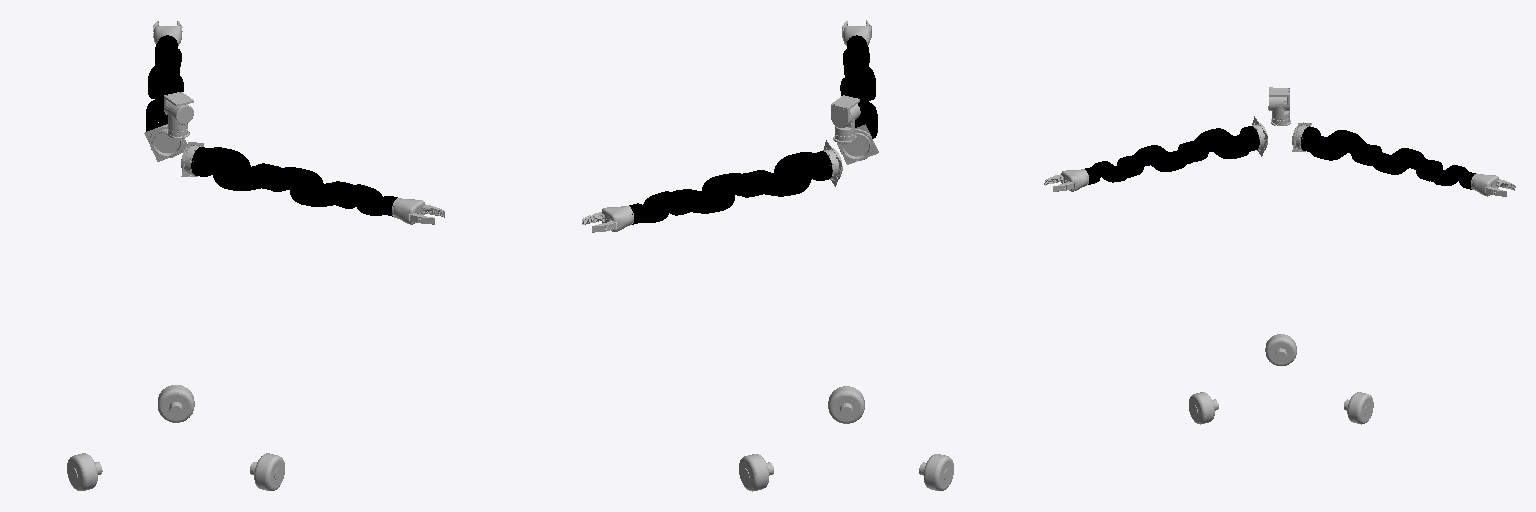
--- What the picture shows (computed from the rendered views, not written in the file) ---
3 views of the same robot in one strip: view 1: azimuth 30°, elevation 25°; view 2: azimuth 150°, elevation 25°; view 3: azimuth 270°, elevation 25° (orthographic).
Robot: wust_robot — 35 links, 34 joints (20 revolute, 3 continuous, 11 fixed); root link base_dummy; default pose: every joint at zero.
Links seen in each view (by area): view 1: R_Link2, R_Link4, wheel_Link1, wheel_Link2, wheel_Link3, R_Link1, L_Link0, R_Link3, R_Link6, L_Link4, H_Link1, R_Link5 (+1 smaller); view 2: L_Link2, L_Link4, wheel_Link3, L_Link1, wheel_Link1, wheel_Link2, R_Link0, L_Link3, R_Link4, L_Link6, H_Link2, L_Link5 (+2 smaller); view 3: L_Link1, R_Link1, L_Link3, R_Link3, wheel_Link2, wheel_Link1, wheel_Link3, L_Link5, R_Link5, R_Link2, L_Link2.
Boxes of the visible links, x1=… form: R_Link2: x1=212, y1=158, x2=278, y2=190; R_Link4: x1=290, y1=178, x2=349, y2=206; wheel_Link1: x1=158, y1=385, x2=194, y2=422; wheel_Link2: x1=67, y1=453, x2=102, y2=490; wheel_Link3: x1=250, y1=453, x2=284, y2=490; R_Link1: x1=191, y1=147, x2=250, y2=176; L_Link0: x1=144, y1=124, x2=187, y2=161; R_Link3: x1=269, y1=167, x2=323, y2=191; R_Link6: x1=356, y1=193, x2=397, y2=216; L_Link4: x1=148, y1=57, x2=179, y2=98; H_Link1: x1=167, y1=103, x2=193, y2=131; R_Link5: x1=340, y1=184, x2=382, y2=208; L_Link2: x1=749, y1=163, x2=811, y2=196; L_Link4: x1=678, y1=184, x2=734, y2=214; wheel_Link3: x1=828, y1=386, x2=864, y2=423; L_Link1: x1=774, y1=151, x2=832, y2=180; wheel_Link1: x1=739, y1=454, x2=773, y2=491; wheel_Link2: x1=919, y1=454, x2=953, y2=490; R_Link0: x1=837, y1=124, x2=878, y2=164; L_Link3: x1=702, y1=173, x2=755, y2=197; R_Link4: x1=844, y1=58, x2=875, y2=100; L_Link6: x1=629, y1=201, x2=669, y2=224; H_Link2: x1=831, y1=95, x2=859, y2=127; L_Link5: x1=643, y1=190, x2=685, y2=215; L_Link1: x1=1301, y1=126, x2=1349, y2=160; R_Link1: x1=1210, y1=126, x2=1259, y2=158; L_Link3: x1=1367, y1=145, x2=1411, y2=174; R_Link3: x1=1149, y1=143, x2=1193, y2=171; wheel_Link2: x1=1265, y1=334, x2=1296, y2=365; wheel_Link1: x1=1344, y1=392, x2=1373, y2=424; wheel_Link3: x1=1189, y1=392, x2=1218, y2=424; L_Link5: x1=1427, y1=160, x2=1460, y2=185; R_Link5: x1=1099, y1=157, x2=1132, y2=182; R_Link2: x1=1186, y1=128, x2=1225, y2=162; L_Link2: x1=1335, y1=130, x2=1371, y2=165.
Bounding box of the posed robot: 0.9284 × 1.88 × 1.38 m (x, y, z).
26 mesh visuals loaded from 28 distinct referenced files (26 binary STL); not drawn: 2 (reference not matched to a file when rendering).

URDF robot description (wust_robot):
<robot name="wust_robot" xmlns:xacro="http://www.ros.org/wiki/xacro">

  <!-- ros_control plugin -->
  <gazebo>
    <plugin name="gazebo_ros_control" filename="libgazebo_ros_control.so">
      <robotNamespace>/wust_robot</robotNamespace>
      <robotSimType>gazebo_ros_control/DefaultRobotHWSim</robotSimType>
      <legacyModeNS>true</legacyModeNS>
    </plugin>
  </gazebo>
  <!-- vision -->
 <link 
    name="base_dummy">
  </link>
  <joint
    name="dummy_fixed"
    type="fixed">
    <origin
      xyz="0 0 0"
      rpy="0 0 0" />
    <parent
      link="base_dummy" />
    <child
      link="base_link" />
    <axis
      xyz="0 0 0" />
  </joint>
  <link
    name="base_link">
    <inertial>
      <origin
        xyz="-0.282456057125086 -0.00267891878159933 0.622280941993128"
        rpy="0 0 0" />
      <mass
        value="14.4253188556047" />
      <inertia
        ixx="3.4562626189094"
        ixy="0.000474831227952002"
        ixz="-0.0182515118714143"
        iyy="3.45013717269394"
        iyz="0.0116686710973834"
        izz="0.488384434703737" />
    </inertial>
    <visual>
      <origin
        xyz="0 0 0"
        rpy="0 0 0" />
      <geometry>
        <mesh
          filename="package://wust_robot_description/meshes/base_link.STL" />
      </geometry>
      <material
        name="">
        <color
          rgba="0.752941176470588 0.752941176470588 0.752941176470588 1" />
      </material>
    </visual>
    <collision>
      <origin
        xyz="0 0 0"
        rpy="0 0 0" />
      <geometry>
        <mesh
          filename="package://wust_robot_description/meshes/base_link.STL" />
      </geometry>
    </collision>
  </link>
  <link 
    name="L_shoulder_Link">
  </link>
  <joint
    name="L_shoulder_joint"
    type="fixed">
    <origin
      xyz="-0.195 0.219 1.152"
      rpy="0 0 0" />
    <parent
      link="base_link" />
    <child
      link="L_shoulder_Link" />
    <axis
      xyz="0 0 0" />
  </joint>
  <link 
    name="R_shoulder_Link">
  </link>
  <joint
    name="R_shoulder_joint"
    type="fixed">
    <origin
      xyz="-0.195 -0.227 1.158"
      rpy="0 0 0" />
    <parent
      link="base_link" />
    <child
      link="R_shoulder_Link" />
    <axis
      xyz="0 0 0" />
  </joint>
  <link
    name="wheel_Link1">
    <inertial>
      <origin
        xyz="3.98208446772408E-09 -1.06505154695569E-09 -0.00320196573480336"
        rpy="0 0 0" />
      <mass
        value="0.784918417319531" />
      <inertia
        ixx="0.00103508205491259"
        ixy="-1.20506527899157E-09"
        ixz="-1.40770135890859E-11"
        iyy="0.00103511219307498"
        iyz="-1.29208313491843E-12"
        izz="0.00137479471522695" />
    </inertial>
    <visual>
      <origin
        xyz="0 0 0"
        rpy="0 0 0" />
      <geometry>
        <mesh
          filename="package://wust_robot_description/meshes/wheel_Link1.STL" />
      </geometry>
      <material
        name="">
        <color
          rgba="0.752941176470588 0.752941176470588 0.752941176470588 1" />
      </material>
    </visual>
    <collision>
      <origin
        xyz="0 0 0"
        rpy="0 0 0" />
      <geometry>
        <mesh
          filename="package://wust_robot_description/meshes/wheel_Link1.STL" />
      </geometry>
    </collision>
  </link>
  <joint
    name="wheel_joint1"
    type="continuous">
    <origin
      xyz="-0.103621086217595 0.316965297785102 0.0402"
      rpy="1.5707963267949 0 2.61799387799148" />
    <parent
      link="base_link" />
    <child
      link="wheel_Link1" />
    <axis
      xyz="0 0 1" />
  </joint>
  <link
    name="wheel_Link2">
    <inertial>
      <origin
        xyz="1.02918445724924E-12 -1.06505145675007E-09 -0.00320198442894559"
        rpy="0 0 0" />
      <mass
        value="0.784918417681748" />
      <inertia
        ixx="0.00103508209438553"
        ixy="-2.85682060113823E-09"
        ixz="1.1811141455231E-13"
        iyy="0.00103511223630421"
        iyz="-6.67148519845314E-12"
        izz="0.00137479472059587" />
    </inertial>
    <visual>
      <origin
        xyz="0 0 0"
        rpy="0 0 0" />
      <geometry>
        <mesh
          filename="package://wust_robot_description/meshes/wheel_Link2.STL" />
      </geometry>
      <material
        name="">
        <color
          rgba="0.752941176470588 0.752941176470588 0.752941176470588 1" />
      </material>
    </visual>
    <collision>
      <origin
        xyz="0 0 0"
        rpy="0 0 0" />
      <geometry>
        <mesh
          filename="package://wust_robot_description/meshes/wheel_Link2.STL" />
      </geometry>
    </collision>
  </link>
  <joint
    name="wheel_joint2"
    type="continuous">
    <origin
      xyz="-0.6526210862176 0 0.0402"
      rpy="1.5707963267949 7.49830360911069E-33 -1.57079632679489" />
    <parent
      link="base_link" />
    <child
      link="wheel_Link2" />
    <axis
      xyz="0 0 1" />
  </joint>
  <link
    name="wheel_Link3">
    <inertial>
      <origin
        xyz="-2.83100107245637E-09 -1.06505148450564E-09 -0.0032019617538914"
        rpy="0 0 0" />
      <mass
        value="0.784918417240751" />
      <inertia
        ixx="0.00103508206033524"
        ixy="-8.54796798950166E-10"
        ixz="9.34219235716564E-12"
        iyy="0.00103511220112508"
        iyz="-1.46548094469136E-13"
        izz="0.00137479471751099" />
    </inertial>
    <visual>
      <origin
        xyz="0 0 0"
        rpy="0 0 0" />
      <geometry>
        <mesh
          filename="package://wust_robot_description/meshes/wheel_Link3.STL" />
      </geometry>
      <material
        name="">
        <color
          rgba="0.752941176470588 0.752941176470588 0.752941176470588 1" />
      </material>
    </visual>
    <collision>
      <origin
        xyz="0 0 0"
        rpy="0 0 0" />
      <geometry>
        <mesh
          filename="package://wust_robot_description/meshes/wheel_Link3.STL" />
      </geometry>
    </collision>
  </link>
  <joint
    name="wheel_joint3"
    type="continuous">
    <origin
      xyz="-0.103621086217593 -0.316965297785103 0.0402"
      rpy="1.5707963267949 0 0.523598775598322" />
    <parent
      link="base_link" />
    <child
      link="wheel_Link3" />
    <axis
      xyz="0 0 -1" />
  </joint>
  <link
    name="L_Link0">
    <inertial>
      <origin
        xyz="0.705266187723226 -0.0627195193252027 -0.0503860551663762"
        rpy="0 0 0" />
      <mass
        value="44.8536262663904" />
      <inertia
        ixx="3.32145714603812"
        ixy="-0.742413466725483"
        ixz="0.341583244971493"
        iyy="11.1763395351522"
        iyz="-0.35531832839436"
        izz="10.7760237557026" />
    </inertial>
    <visual>
      <origin
        xyz="0 0 0"
        rpy="0 0 0" />
      <geometry>
        <mesh
          filename="package://wust_robot_description/meshes/L_Link0.STL" />
      </geometry>
      <material
        name="">
        <color
          rgba="0.752941176470588 0.752941176470588 0.752941176470588 1" />
      </material>
    </visual>
    <collision>
      <origin
        xyz="0 0 0"
        rpy="0 0 0" />
      <geometry>
        <mesh
          filename="package://wust_robot_description/meshes/L_Link0.STL" />
      </geometry>
    </collision>
  </link>
  <joint
    name="L_fixed"
    type="fixed">
    <origin
      xyz="-0.277216673276884 0.076446811665885 1.15429750765682"
      rpy="3.14159265358934 1.56054089882637 -2.09612569168172" />
    <parent
      link="base_link" />
    <child
      link="L_Link0" />
    <axis
      xyz="0 0 0" />
  </joint>
  <link
    name="L_Link1">
    <inertial>
      <origin
        xyz="-4.01597777859308E-05 -0.015653004325108 0.0601130386374143"
        rpy="0 0 0" />
      <mass
        value="0.225999459202375" />
      <inertia
        ixx="0.000855101108306438"
        ixy="1.28543240450215E-07"
        ixz="6.24868513140796E-07"
        iyy="0.000896245950407909"
        iyz="6.58582596095603E-05"
        izz="0.000416139417054559" />
    </inertial>
    <visual>
      <origin
        xyz="0 0 0"
        rpy="0 0 0" />
      <geometry>
        <mesh
          filename="package://wust_robot_description/meshes/L_Link1.STL" />
      </geometry>
      <material
        name="">
        <color
          rgba="0 0 0 1" />
      </material>
    </visual>
    <collision>
      <origin
        xyz="0 0 0"
        rpy="0 0 0" />
      <geometry>
        <mesh
          filename="package://wust_robot_description/meshes/L_Link1.STL" />
      </geometry>
    </collision>
  </link>
  <joint
    name="L_joint1"
    type="revolute">
    <origin
      xyz="0 0 0.0575"
      rpy="-3.6214E-14 -1.1852E-14 -8.874E-06" />
    <parent
      link="L_Link0" />
    <child
      link="L_Link1" />
    <axis
      xyz="0 0 1" />
    <limit
      lower="-3.05"
      upper="3.05"
      effort="90"
      velocity="1.31" />
  </joint>
  <link
    name="L_Link2">
    <inertial>
      <origin
        xyz="0.000857159054628465 -0.0688556150992958 -0.0219475431582306"
        rpy="0 0 0" />
      <mass
        value="0.211155173164178" />
      <inertia
        ixx="0.00099680616846942"
        ixy="7.35505061258559E-06"
        ixz="3.30420389247683E-06"
        iyy="0.000405576840374361"
        iyz="-0.000263492222121101"
        izz="0.000942075280953054" />
    </inertial>
    <visual>
      <origin
        xyz="0 0 0.052"
        rpy="0 0 0" />
      <geometry>
        <mesh
          filename="package://wust_robot_description/meshes/L_Link2.STL" />
      </geometry>
      <material
        name="">
        <color
          rgba="0 0 0 1" />
      </material>
    </visual>
    <collision>
      <origin
        xyz="0 0 0.052"
        rpy="0 0 0" />
      <geometry>
        <mesh
          filename="package://wust_robot_description/meshes/L_Link2.STL" />
      </geometry>
    </collision>
  </link>
  <joint
    name="L_joint2"
    type="revolute">
    <origin
      xyz="0.0007 0.0 0.107"
      rpy="-1.5708 -0.0 -0.0" />
    <parent
      link="L_Link1" />
    <child
      link="L_Link2" />
    <axis
      xyz="0 0 1" />
    <limit
      lower="-2.09"
      upper="2.09"
      effort="90"
      velocity="1.31" />
  </joint>
  <link
    name="L_Link3">
    <inertial>
      <origin
        xyz="-0.000502019625280736 -0.0161731705290906 0.0585188339670352"
        rpy="0 0 0" />
      <mass
        value="0.17490126281718" />
      <inertia
        ixx="0.000566836297288879"
        ixy="1.50176831737645E-07"
        ixz="3.02203024327442E-07"
        iyy="0.000579069255779677"
        iyz="3.49864551490562E-05"
        izz="0.000240420030304234" />
    </inertial>
    <visual>
      <origin
        xyz="0 0 0"
        rpy="0 0 0" />
      <geometry>
        <mesh
          filename="package://wust_robot_description/meshes/L_Link3.STL" />
      </geometry>
      <material
        name="">
        <color
          rgba="0 0 0 1" />
      </material>
    </visual>
    <collision>
      <origin
        xyz="0 0 0"
        rpy="0 0 0" />
      <geometry>
        <mesh
          filename="package://wust_robot_description/meshes/L_Link3.STL" />
      </geometry>
    </collision>
  </link>
  <joint
    name="L_joint3"
    type="revolute">
    <origin
      xyz="0.00 -0.19068 0 "
      rpy="1.5708 -0.00 0.0" />
    <parent
      link="L_Link2" />
    <child
      link="L_Link3" />
    <axis
      xyz="0 0 1" />
    <limit
      lower="-3.05"
      upper="3.05"
      effort="67"
      velocity="1.31" />
  </joint>
  <link
    name="L_Link4">
    <inertial>
      <origin
        xyz="0.000816124678452601 -0.0673789710997609 -0.0227669323131372"
        rpy="0 0 0" />
      <mass
        value="0.139141420083307" />
      <inertia
        ixx="0.00056729628586642"
        ixy="4.51473982393015E-06"
        ixz="1.91083305732679E-06"
        iyy="0.000225919086974947"
        iyz="-0.000151217366445457"
        izz="0.000540296323987622" />
    </inertial>
    <visual>
      <origin
        xyz="0 0 0.0496"
        rpy="0 0 0" />
      <geometry>
        <mesh
          filename="package://wust_robot_description/meshes/L_Link4.STL" />
      </geometry>
      <material
        name="">
        <color
          rgba="0 0 0 1" />
      </material>
    </visual>
    <collision>
      <origin
        xyz="0 0 0.0496"
        rpy="0 0 0" />
      <geometry>
        <mesh
          filename="package://wust_robot_description/meshes/L_Link4.STL" />
      </geometry>
    </collision>
  </link>
  <joint
    name="L_joint4"
    type="revolute">
    <origin
      xyz="-0.000 0.0 0.1013"
      rpy="-1.5708 -0.0 -0.0" />
    <parent
      link="L_Link3" />
    <child
      link="L_Link4" />
    <axis
      xyz="0 0 1" />
    <limit
      lower="-2.09"
      upper="2.09"
      effort="67"
      velocity="1.31" />
  </joint>
  <link
    name="L_Link5">
    <inertial>
      <origin
        xyz="-4.29302225295469E-05 -0.0122054741831609 0.0309080414213873"
        rpy="0 0 0" />
      <mass
        value="0.0974186108051673" />
      <inertia
        ixx="0.000193993763249076"
        ixy="-1.08151386702443E-08"
        ixz="1.12865581638743E-07"
        iyy="0.000192392251466149"
        iyz="2.59299754635995E-05"
        izz="0.00011605204613654" />
    </inertial>
    <visual>
      <origin
        xyz="0 0 0"
        rpy="0 0 0" />
      <geometry>
        <mesh
          filename="package://wust_robot_description/meshes/L_Link5.STL" />
      </geometry>
      <material
        name="">
        <color
          rgba="0 0 0 1" />
      </material>
    </visual>
    <collision>
      <origin
        xyz="0 0 0"
        rpy="0 0 0" />
      <geometry>
        <mesh
          filename="package://wust_robot_description/meshes/L_Link5.STL" />
      </geometry>
    </collision>
  </link>
  <joint
    name="L_joint5"
    type="revolute">
    <origin
      xyz="0.00 -0.17419 -0.0"
      rpy="1.5708 -0.00 0.0" />
    <parent
      link="L_Link4" />
    <child
      link="L_Link5" />
    <axis
      xyz="0 0 1" />
    <limit
      lower="-3.05"
      upper="3.05"
      effort="67"
      velocity="1.57" />
  </joint>
  <link
    name="L_Link6">
    <inertial>
      <origin
        xyz="0.000578002589833648 -0.0463011867222332 -0.0205916885454552"
        rpy="0 0 0" />
      <mass
        value="0.0709945582242612" />
      <inertia
        ixx="0.000150339550887913"
        ixy="9.87375759106794E-07"
        ixz="4.30166297877036E-07"
        iyy="6.97108294544225E-05"
        iyz="-3.5343957204107E-05"
        izz="0.000145966265729034" />
    </inertial>
    <visual>
      <origin
        xyz="0 0 0.035"
        rpy="0 0 0" />
      <geometry>
        <mesh
          filename="package://wust_robot_description/meshes/L_Link6.STL" />
      </geometry>
      <material
        name="">
        <color
          rgba="0 0 0 1" />
      </material>
    </visual>
    <collision>
      <origin
        xyz="0 0 0.035"
        rpy="0 0 0" />
      <geometry>
        <mesh
          filename="package://wust_robot_description/meshes/L_Link6.STL" />
      </geometry>
    </collision>
  </link>
  <joint
    name="L_joint6"
    type="revolute">
    <origin
      xyz="0.000 0.0 0.0678"
      rpy="-1.5708 -0.0 -0.00" />
    <parent
      link="L_Link5" />
    <child
      link="L_Link6" />
    <axis
      xyz="0 0 1" />
    <limit
      lower="-2.09"
      upper="2.09"
      effort="67"
      velocity="1.57" />
  </joint>
  <link
    name="L_Link7">
    <inertial>
      <origin
        xyz="4.60523932026558E-05 8.96532549643503E-07 0.0214613080243776"
        rpy="0 0 0" />
      <mass
        value="0.069591475741743" />
      <inertia
        ixx="0.000100578251230889"
        ixy="-5.19958958347684E-08"
        ixz="-5.45711696598764E-08"
        iyy="8.85989894975445E-05"
        iyz="6.15630197980581E-09"
        izz="8.88086576481483E-05" />
    </inertial>
    <visual>
      <origin
        xyz="0 0 0"
        rpy="0 0 0" />
      <geometry>
        <mesh
          filename="package://wust_robot_description/meshes/L_Link7.STL" />
      </geometry>
      <material
        name="">
        <color
          rgba="0.752941176470588 0.752941176470588 0.752941176470588 1" />
      </material>
    </visual>
    <collision>
      <origin
        xyz="0 0 0"
        rpy="0 0 0" />
      <geometry>
        <mesh
          filename="package://wust_robot_description/meshes/L_Link7.STL" />
      </geometry>
    </collision>
  </link>
  <joint
    name="L_joint7"
    type="revolute">
    <origin
      xyz="0.00 -0.12909 -0.0"
      rpy="1.5708 -0.00 0.0" />
    <parent
      link="L_Link6" />
    <child
      link="L_Link7" />
    <axis
      xyz="0 0 1" />
    <limit
      lower="-3.05"
      upper="3.05"
      effort="33"
      velocity="1.57" />
  </joint>
  <link
    name="L_ee" />
  <joint
    name="L_end_fixed"
    type="fixed">
    <origin
      xyz="0 0 0.105"
      rpy="0 0 0" />
    <parent
      link="L_Link7" />
    <child
      link="L_ee" />
    <axis
      xyz="0 0 0" />
  </joint>
  <link
    name="L_left_finger">
    <inertial>
      <origin
        xyz="0.0320300911336966 0.0191580149745619 1.65254374870916E-05"
        rpy="0 0 0" />
      <mass
        value="0.0222031203695293" />
      <inertia
        ixx="2.94895437947066E-06"
        ixy="-2.74026245995243E-06"
        ixz="3.48998944902299E-09"
        iyy="1.31997477985414E-05"
        iyz="-1.523937902794E-09"
        izz="1.31922323060758E-05" />
    </inertial>
    <visual>
      <origin
        xyz="0 0 0"
        rpy="0 0 0" />
      <geometry>
        <mesh
          filename="package://wust_robot_description/meshes/L_left_finger.STL" />
      </geometry>
      <material
        name="">
        <color
          rgba="0.752941176470588 0.752941176470588 0.752941176470588 1" />
      </material>
    </visual>
    <collision>
      <origin
        xyz="0 0 0"
        rpy="0 0 0" />
      <geometry>
        <mesh
          filename="package://wust_robot_description/meshes/L_left_finger.STL" />
      </geometry>
    </collision>
  </link>
  <joint
    name="L_left_joint"
    type="revolute">
    <origin
      xyz="0.00010863 0.028 0.0584"
      rpy="1.5708 -1.3107 -1.5747" />
    <parent
      link="L_Link7" />
    <child
      link="L_left_finger" />
    <axis
      xyz="0 0 1" />
    <limit
      lower="-0.35"
      upper="0.35"
      effort="0"
      velocity="0" />
  </joint>
  <link
    name="L_right_finger">
    <inertial>
      <origin
        xyz="0.0374350483372549 -0.000661225509474506 -1.65200352733041E-05"
        rpy="0 0 0" />
      <mass
        value="0.0222031598698606" />
      <inertia
        ixx="2.96928300709427E-06"
        ixy="-2.85846959892981E-06"
        ixz="-2.56668795513893E-09"
        iyy="1.31704010800968E-05"
        iyz="-2.8970724658086E-09"
        izz="1.31832096813533E-05" />
    </inertial>
    <visual>
      <origin
        xyz="0 0 0"
        rpy="0 0 0" />
      <geometry>
        <mesh
          filename="package://wust_robot_description/meshes/L_right_finger.STL" />
      </geometry>
      <material
        name="">
        <color
          rgba="0.752941176470588 0.752941176470588 0.752941176470588 1" />
      </material>
    </visual>
    <collision>
      <origin
        xyz="0 0 0"
        rpy="0 0 0" />
      <geometry>
        <mesh
          filename="package://wust_robot_description/meshes/L_right_finger.STL" />
      </geometry>
    </collision>
  </link>
  <joint
    name="L_right_joint"
    type="revolute">
    <origin
      xyz="-0.00010863 -0.028 0.0584"
      rpy="1.5708 -1.3107 -1.5747" />
    <parent
      link="L_Link7" />
    <child
      link="L_right_finger" />
    <axis
      xyz="0 0 1" />
    <limit
      lower="-0.35"
      upper="0.35"
      effort="0"
      velocity="0" />
  </joint>
  <link
    name="R_Link0">
    <inertial>
      <origin
        xyz="-0.705949828103567 -0.0617435709172465 -0.0519210672148267"
        rpy="0 0 0" />
      <mass
        value="44.8536262663904" />
      <inertia
        ixx="3.33720272867562"
        ixy="0.737896863784547"
        ixz="-0.500242330782589"
        iyy="11.1713307608221"
        iyz="-0.344327247077981"
        izz="10.7652869473953" />
    </inertial>
    <visual>
      <origin
        xyz="0 0 0"
        rpy="0 0 0" />
      <geometry>
        <mesh
          filename="package://wust_robot_description/meshes/R_Link0.STL" />
      </geometry>
      <material
        name="">
        <color
          rgba="0.752941176470588 0.752941176470588 0.752941176470588 1" />
      </material>
    </visual>
    <collision>
      <origin
        xyz="0 0 0"
        rpy="0 0 0" />
      <geometry>
        <mesh
          filename="package://wust_robot_description/meshes/R_Link0.STL" />
      </geometry>
    </collision>
  </link>
  <joint
    name="R_fixed"
    type="fixed">
    <origin
      xyz="-0.282475067184404 -0.0754489025211679 1.1559501936252"
      rpy="0 -1.56230906164837 2.09271386565402" />
    <parent
      link="base_link" />
    <child
      link="R_Link0" />
    <axis
      xyz="0 0 0" />
  </joint>
  <link
    name="R_Link1">
    <inertial>
      <origin
        xyz="-8.80730212726721E-05 -0.0156519826446752 0.0601157869098909"
        rpy="0 0 0" />
      <mass
        value="0.225988503121511" />
      <inertia
        ixx="0.000855056493906698"
        ixy="2.56076634162957E-07"
        ixz="8.29560067350113E-07"
        iyy="0.000896207358258187"
        iyz="6.58679338631613E-05"
        izz="0.000416131483281957" />
    </inertial>
    <visual>
      <origin
        xyz="0 0 0"
        rpy="0 0 0" />
      <geometry>
        <mesh
          filename="package://wust_robot_description/meshes/R_Link1.STL" />
      </geometry>
      <material
        name="">
        <color
          rgba="0 0 0 1" />
      </material>
    </visual>
    <collision>
      <origin
        xyz="0 0 0"
        rpy="0 0 0" />
      <geometry>
        <mesh
          filename="package://wust_robot_description/meshes/R_Link1.STL" />
      </geometry>
    </collision>
  </link>
  <joint
    name="R_joint1"
    type="revolute">
    <origin
      xyz="0 0 0.0675"
      rpy="5.0515E-14 7.1106E-15 4.2748E-16" />
    <parent
      link="R_Link0" />
    <child
      link="R_Link1" />
    <axis
      xyz="0 0 1" />
    <limit
      lower="-3.05"
      upper="3.05"
      effort="90"
      velocity="1.57" />
  </joint>
  <link
    name="R_Link2">
    <inertial>
      <origin
        xyz="0.000855446580232622 -0.0688556657921777 -0.0219476027776705"
        rpy="0 0 0" />
      <mass
        value="0.211155390534304" />
      <inertia
        ixx="0.000996807167364456"
        ixy="7.34046811397431E-06"
        ixz="3.29819398216218E-06"
        iyy="0.00040557671982896"
        iyz="-0.000263492282504201"
        izz="0.000942075587938676" />
    </inertial>
    <visual>
      <origin
        xyz="0 0 0.052"
        rpy="0 0 0" />
      <geometry>
        <mesh
          filename="package://wust_robot_description/meshes/R_Link2.STL" />
      </geometry>
      <material
        name="">
        <color
          rgba="0 0 0 1" />
      </material>
    </visual>
    <collision>
      <origin
        xyz="0 0 0.052"
        rpy="0 0 0" />
      <geometry>
        <mesh
          filename="package://wust_robot_description/meshes/R_Link2.STL" />
      </geometry>
    </collision>
  </link>
  <joint
    name="R_joint2"
    type="revolute">
    <origin
      xyz="0.00036098 0 0.107"
      rpy="-1.5708 -0.0 -0.00" />
    <parent
      link="R_Link1" />
    <child
      link="R_Link2" />
    <axis
      xyz="0 0 1" />
    <limit
      lower="-2.09"
      upper="2.09"
      effort="90"
      velocity="1.57" />
  </joint>
  <link
    name="R_Link3">
    <inertial>
      <origin
        xyz="-0.000124308636626935 -0.0161728550503237 0.0585188481364759"
        rpy="0 0 0" />
      <mass
        value="0.174901365038314" />
      <inertia
        ixx="0.000566837830675693"
        ixy="1.87641076312855E-07"
        ixz="4.09346511538344E-07"
        iyy="0.00057906863650209"
        iyz="3.49852208079504E-05"
        izz="0.000240420085764592" />
    </inertial>
    <visual>
      <origin
        xyz="0 0 0"
        rpy="0 0 0" />
      <geometry>
        <mesh
          filename="package://wust_robot_description/meshes/R_Link3.STL" />
      </geometry>
      <material
        name="">
        <color
          rgba="0 0 0 1" />
      </material>
    </visual>
    <collision>
      <origin
        xyz="0 0 0"
        rpy="0 0 0" />
      <geometry>
        <mesh
          filename="package://wust_robot_description/meshes/R_Link3.STL" />
      </geometry>
    </collision>
  </link>
  <joint
    name="R_joint3"
    type="revolute">
    <origin
      xyz="0.000 -0.19069 -0.00"
      rpy="1.5708 -0.000 0.00" />
    <parent
      link="R_Link2" />
    <child
      link="R_Link3" />
    <axis
      xyz="0 0 1" />
    <limit
      lower="-3.05"
      upper="3.05"
      effort="67"
      velocity="1.31" />
  </joint>
  <link
    name="R_Link4">
    <inertial>
      <origin
        xyz="0.000814622172446322 -0.0673803573274671 -0.0227673778995151"
        rpy="0 0 0" />
      <mass
        value="0.139139841811024" />
      <inertia
        ixx="0.000567281709376824"
        ixy="4.50372009169932E-06"
        ixz="1.90649602099204E-06"
        iyy="0.000225916537752781"
        iyz="-0.000151211158915554"
        izz="0.000540282597292521" />
    </inertial>
    <visual>
      <origin
        xyz="0 0 0.0497"
        rpy="0 0 0" />
      <geometry>
        <mesh
          filename="package://wust_robot_description/meshes/R_Link4.STL" />
      </geometry>
      <material
        name="">
        <color
          rgba="0 0 0 1" />
      </material>
    </visual>
    <collision>
      <origin
        xyz="0 0 0.0497"
        rpy="0 0 0" />
      <geometry>
        <mesh
          filename="package://wust_robot_description/meshes/R_Link4.STL" />
      </geometry>
    </collision>
  </link>
  <joint
    name="R_joint4"
    type="revolute">
    <origin
      xyz="0.000 0.0 0.1013"
      rpy="-1.5708 -0.0 -0.00" />
    <parent
      link="R_Link3" />
    <child
      link="R_Link4" />
    <axis
      xyz="0 0 1" />
    <limit
      lower="-2.09"
      upper="2.09"
      effort="67"
      velocity="1.31" />
  </joint>
  <link
    name="R_Link5">
    <inertial>
      <origin
        xyz="-8.04048459572826E-05 -0.0122051729745975 0.0309080270457396"
        rpy="0 0 0" />
      <mass
        value="0.0974186804244123" />
      <inertia
        ixx="0.000193994421900863"
        ixy="-1.48441435535215E-08"
        ixz="1.92065206689152E-07"
        iyy="0.000192391989673925"
        iyz="2.59297669656422E-05"
        izz="0.000116052397783966" />
    </inertial>
    <visual>
      <origin
        xyz="0 0 0"
        rpy="0 0 0" />
      <geometry>
        <mesh
          filename="package://wust_robot_description/meshes/R_Link5.STL" />
      </geometry>
      <material
        name="">
        <color
          rgba="0 0 0 1" />
      </material>
    </visual>
    <collision>
      <origin
        xyz="0 0 0"
        rpy="0 0 0" />
      <geometry>
        <mesh
          filename="package://wust_robot_description/meshes/R_Link5.STL" />
      </geometry>
    </collision>
  </link>
  <joint
    name="R_joint5"
    type="revolute">
    <origin
      xyz="0.0 -0.17419 -0.0"
      rpy="1.5708 -0.00 0.0" />
    <parent
      link="R_Link4" />
    <child
      link="R_Link5" />
    <axis
      xyz="0 0 1" />
    <limit
      lower="-3.05"
      upper="3.05"
      effort="67"
      velocity="1.57" />
  </joint>
  <link
    name="R_Link6">
    <inertial>
      <origin
        xyz="0.00057688303394654 -0.0463012841468418 -0.0205917105833053"
        rpy="0 0 0" />
      <mass
        value="0.0709944248375274" />
      <inertia
        ixx="0.000150339079631084"
        ixy="9.85293191132637E-07"
        ixz="4.29279485125423E-07"
        iyy="6.97107575080967E-05"
        iyz="-3.53438629902347E-05"
        izz="0.000145965793514426" />
    </inertial>
    <visual>
      <origin
        xyz="0 0 0.035"
        rpy="0 0 0" />
      <geometry>
        <mesh
          filename="package://wust_robot_description/meshes/R_Link6.STL" />
      </geometry>
      <material
        name="">
        <color
          rgba="0 0 0 1" />
      </material>
    </visual>
    <collision>
      <origin
        xyz="0 0 0.035"
        rpy="0 0 0" />
      <geometry>
        <mesh
          filename="package://wust_robot_description/meshes/R_Link6.STL" />
      </geometry>
    </collision>
  </link>
  <joint
    name="R_joint6"
    type="revolute">
    <origin
      xyz="0.0000 0.00 0.0678"
      rpy="-1.5708 -0.0 -0.00" />
    <parent
      link="R_Link5" />
    <child
      link="R_Link6" />
    <axis
      xyz="0 0 1" />
    <limit
      lower="-2.09"
      upper="2.09"
      effort="67"
      velocity="1.57" />
  </joint>
  <link
    name="R_Link7">
    <inertial>
      <origin
        xyz="4.59025706534E-05 7.68261343486731E-07 0.0214611806756081"
        rpy="0 0 0" />
      <mass
        value="0.0695919740838392" />
      <inertia
        ixx="0.000100577880897543"
        ixy="-8.86467756941057E-08"
        ixz="-5.47756907756264E-08"
        iyy="8.85997556235195E-05"
        iyz="6.35168908512474E-09"
        izz="8.88089262054172E-05" />
    </inertial>
    <visual>
      <origin
        xyz="0 0 0"
        rpy="0 0 0" />
      <geometry>
        <mesh
          filename="package://wust_robot_description/meshes/R_Link7.STL" />
      </geometry>
      <material
        name="">
        <color
          rgba="0.752941176470588 0.752941176470588 0.752941176470588 1" />
      </material>
    </visual>
    <collision>
      <origin
        xyz="0 0 0"
        rpy="0 0 0" />
      <geometry>
        <mesh
          filename="package://wust_robot_description/meshes/R_Link7.STL" />
      </geometry>
    </collision>
  </link>
  <joint
    name="R_joint7"
    type="revolute">
    <origin
      xyz="0.000 -0.12909 -0.00"
      rpy="1.5708 -0.00 0.0" />
    <parent
      link="R_Link6" />
    <child
      link="R_Link7" />
    <axis
      xyz="0 0 1" />
    <limit
      lower="-3.05"
      upper="3.05"
      effort="33"
      velocity="1.57" />
  </joint>
<link
    name="R_ee" />
  <joint
    name="R_end_fixed"
    type="fixed">
    <origin
      xyz="0 0 0.105"
      rpy="0 0 0" />
    <parent
      link="R_Link7" />
    <child
      link="R_ee" />
    <axis
      xyz="0 0 0" />
  </joint>
  <link
    name="R_left_finger">
    <inertial>
      <origin
        xyz="0.0260955520414758 0.0268485052033585 1.65200056947423E-05"
        rpy="0 0 0" />
      <mass
        value="0.0222031599135879" />
      <inertia
        ixx="5.17634121269431E-06"
        ixy="-5.08076804886169E-06"
        ixz="3.86266085033788E-09"
        iyy="1.09633428776348E-05"
        iyz="-2.46941553078193E-10"
        izz="1.31832096779791E-05" />
    </inertial>
    <visual>
      <origin
        xyz="0 0 0"
        rpy="0 0 0" />
      <geometry>
        <mesh
          filename="package://wust_robot_description/meshes/R_left_finger.STL" />
      </geometry>
      <material
        name="">
        <color
          rgba="0.752941176470588 0.752941176470588 0.752941176470588 1" />
      </material>
    </visual>
    <collision>
      <origin
        xyz="0 0 0"
        rpy="0 0 0" />
      <geometry>
        <mesh
          filename="package://wust_robot_description/meshes/R_left_finger.STL" />
      </geometry>
    </collision>
  </link>
  <joint
    name="R_left_joint"
    type="revolute">
    <origin
      xyz="-0.00019437 -0.027999 0.0584"
      rpy="1.5708 -1.0489 1.5639" />
    <parent
      link="R_Link7" />
    <child
      link="R_left_finger" />
    <axis
      xyz="0 0 1" />
    <limit
      lower="-0.35"
      upper="0.35"
      effort="0"
      velocity="0" />
  </joint>
  <link
    name="R_right_finger">
    <inertial>
      <origin
        xyz="0.00900671737878619 -0.0361870762451453 -1.66044539418042E-05"
        rpy="0 0 0" />
      <mass
        value="0.0220974515411977" />
      <inertia
        ixx="1.08405524540199E-05"
        ixy="5.11180404952526E-06"
        ixz="-3.55147285863145E-09"
        iyy="5.2928488567163E-06"
        iyz="1.38783715682453E-09"
        izz="1.31808678174573E-05" />
    </inertial>
    <visual>
      <origin
        xyz="0 0 0"
        rpy="0 0 0" />
      <geometry>
        <mesh
          filename="package://wust_robot_description/meshes/R_right_finger.STL" />
      </geometry>
      <material
        name="">
        <color
          rgba="0.752941176470588 0.752941176470588 0.752941176470588 1" />
      </material>
    </visual>
    <collision>
      <origin
        xyz="0 0 0"
        rpy="0 0 0" />
      <geometry>
        <mesh
          filename="package://wust_robot_description/meshes/R_right_finger.STL" />
      </geometry>
    </collision>
  </link>
  <joint
    name="R_right_joint"
    type="revolute">
    <origin
      xyz="0.00019437 0.027999 0.0584"
      rpy="-1.5708 -0.52188 -1.5777" />
    <parent
      link="R_Link7" />
    <child
      link="R_right_finger" />
    <axis
      xyz="0 0 1" />
    <limit
      lower="-0.35"
      upper="0.35"
      effort="0"
      velocity="0" />
  </joint>
  <link
    name="H_Link0">
    <inertial>
      <origin
        xyz="-3.64915030415247E-08 1.33598927060108E-09 0.00960650891302395"
        rpy="0 0 0" />
      <mass
        value="0.0282931710872259" />
      <inertia
        ixx="1.8670401636216E-05"
        ixy="-4.46182201356798E-09"
        ixz="9.39043454713441E-12"
        iyy="1.60740322277107E-05"
        iyz="-1.42201515331024E-13"
        izz="3.22122742404417E-05" />
    </inertial>
    <visual>
      <origin
        xyz="0 0 0"
        rpy="0 0 0" />
      <geometry>
        <mesh
          filename="package://wust_robot_description/meshes/H_Link0.STL" />
      </geometry>
      <material
        name="">
        <color
          rgba="0.752941176470588 0.752941176470588 0.752941176470588 1" />
      </material>
    </visual>
    <collision>
      <origin
        xyz="0 0 0"
        rpy="0 0 0" />
      <geometry>
        <mesh
          filename="package://wust_robot_description/meshes/H_Link0.STL" />
      </geometry>
    </collision>
  </link>
  <joint
    name="H_fixed"
    type="fixed">
    <origin
      xyz="-0.279853342265354 -0.00124379273591871 1.21711625475335"
      rpy="-0.010818106818609 0.00178669918881043 4.97599585242033E-15" />
    <parent
      link="base_link" />
    <child
      link="H_Link0" />
    <axis
      xyz="0 0 0" />
  </joint>
  <link
    name="H_Link1">
    <inertial>
      <origin
        xyz="-2.44685520338073E-05 -0.0142973955030197 0.072760781491529"
        rpy="0 0 0" />
      <mass
        value="0.10617521841044" />
      <inertia
        ixx="0.000147239364786669"
        ixy="2.0361743089092E-09"
        ixz="4.6936401558984E-08"
        iyy="0.000148433917490508"
        iyz="2.77215024412505E-05"
        izz="0.000112933232681004" />
    </inertial>
    <visual>
      <origin
        xyz="0 0 0"
        rpy="0 0 0" />
      <geometry>
        <mesh
          filename="package://wust_robot_description/meshes/H_Link1.STL" />
      </geometry>
      <material
        name="">
        <color
          rgba="0.752941176470588 0.752941176470588 0.752941176470588 1" />
      </material>
    </visual>
    <collision>
      <origin
        xyz="0 0 0"
        rpy="0 0 0" />
      <geometry>
        <mesh
          filename="package://wust_robot_description/meshes/H_Link1.STL" />
      </geometry>
    </collision>
  </link>
  <joint
    name="H_joint1"
    type="revolute">
    <origin
      xyz="0 0 0"
      rpy="0 0 -3.3881E-21" />
    <parent
      link="H_Link0" />
    <child
      link="H_Link1" />
    <axis
      xyz="0 0 1" />
    <limit
      lower="-1.57"
      upper="1.57"
      effort="67"
      velocity="1.57" />
  </joint>
  <link
    name="H_Link2">
    <inertial>
      <origin
        xyz="0.00200202426531576 -0.0253562544549957 -0.0352939173499319"
        rpy="0 0 0" />
      <mass
        value="0.0868734402381557" />
      <inertia
        ixx="0.000105856769329183"
        ixy="1.12208917758946E-07"
        ixz="2.88125239273472E-07"
        iyy="9.58250674495025E-05"
        iyz="-2.57391493711484E-05"
        izz="8.87936149430763E-05" />
    </inertial>
    <visual>
      <origin
        xyz="0 0 0"
        rpy="0 0 0" />
      <geometry>
        <mesh
          filename="package://wust_robot_description/meshes/H_Link2.STL" />
      </geometry>
      <material
        name="">
        <color
          rgba="0.752941176470588 0.752941176470588 0.752941176470588 1" />
      </material>
    </visual>
    <collision>
      <origin
        xyz="0 0 0"
        rpy="0 0 0" />
      <geometry>
        <mesh
          filename="package://wust_robot_description/meshes/H_Link2.STL" />
      </geometry>
    </collision>
  </link>
  <joint
    name="H_joint2"
    type="revolute">
    <origin
      xyz="-0.0016199 0.043603 0.091463"
      rpy="-1.5708 -0.0017682 -0.0017204" />
    <parent
      link="H_Link1" />
    <child
      link="H_Link2" />
    <axis
      xyz="0 0 1" />
    <limit
      lower="-1.57"
      upper="1.57"
      effort="67"
      velocity="1.57" />
  </joint>

<!--transmission-->
  <transmission name="tran1">
    <type>transmission_interface/SimpleTransmission</type>
    <joint name="L_joint1">
      <hardwareInterface>hardware_interface/PositionJointInterface</hardwareInterface>
    </joint>
    <actuator name="motor1">
      <hardwareInterface>PositionJointInterface</hardwareInterface>
      <mechanicalReduction>1</mechanicalReduction>
    </actuator>
  </transmission>
  <transmission name="tran2">
    <type>transmission_interface/SimpleTransmission</type>
    <joint name="L_joint2">
      <hardwareInterface>hardware_interface/PositionJointInterface</hardwareInterface>
    </joint>
    <actuator name="motor2">
      <hardwareInterface>PositionJointInterface</hardwareInterface>
      <mechanicalReduction>1</mechanicalReduction>
    </actuator>
  </transmission>
  <transmission name="tran3">
    <type>transmission_interface/SimpleTransmission</type>
    <joint name="L_joint3">
      <hardwareInterface>hardware_interface/PositionJointInterface</hardwareInterface>
    </joint>
    <actuator name="motor3">
      <hardwareInterface>PositionJointInterface</hardwareInterface>
      <mechanicalReduction>1</mechanicalReduction>
    </actuator>
  </transmission>
  <transmission name="tran4">
    <type>transmission_interface/SimpleTransmission</type>
    <joint name="L_joint4">
      <hardwareInterface>hardware_interface/PositionJointInterface</hardwareInterface>
    </joint>
    <actuator name="motor4">
      <hardwareInterface>PositionJointInterface</hardwareInterface>
      <mechanicalReduction>1</mechanicalReduction>
    </actuator>
  </transmission>
  <transmission name="tran5">
    <type>transmission_interface/SimpleTransmission</type>
    <joint name="L_joint5">
      <hardwareInterface>hardware_interface/PositionJointInterface</hardwareInterface>
    </joint>
    <actuator name="motor5">
      <hardwareInterface>PositionJointInterface</hardwareInterface>
      <mechanicalReduction>1</mechanicalReduction>
    </actuator>
  </transmission>
  <transmission name="tran6">
    <type>transmission_interface/SimpleTransmission</type>
    <joint name="L_joint6">
      <hardwareInterface>hardware_interface/PositionJointInterface</hardwareInterface>
    </joint>
    <actuator name="motor6">
      <hardwareInterface>PositionJointInterface</hardwareInterface>
      <mechanicalReduction>1</mechanicalReduction>
    </actuator>
  </transmission>
  <transmission name="tran7">
    <type>transmission_interface/SimpleTransmission</type>
    <joint name="L_joint7">
      <hardwareInterface>hardware_interface/PositionJointInterface</hardwareInterface>
    </joint>
    <actuator name="motor7">
      <hardwareInterface>PositionJointInterface</hardwareInterface>
      <mechanicalReduction>1</mechanicalReduction>
    </actuator>
  </transmission>
  <transmission name="tran15">
    <type>transmission_interface/SimpleTransmission</type>
    <joint name="L_left_joint">
      <hardwareInterface>hardware_interface/PositionJointInterface</hardwareInterface>
    </joint>
    <actuator name="motor15">
      <hardwareInterface>PositionJointInterface</hardwareInterface>
      <mechanicalReduction>1</mechanicalReduction>
    </actuator>
  </transmission>
  <transmission name="tran16">
    <type>transmission_interface/SimpleTransmission</type>
    <joint name="L_right_joint">
      <hardwareInterface>hardware_interface/PositionJointInterface</hardwareInterface>
    </joint>
    <actuator name="motor16">
      <hardwareInterface>PositionJointInterface</hardwareInterface>
      <mechanicalReduction>1</mechanicalReduction>
    </actuator>
  </transmission>
  
  <transmission name="tran8">
    <type>transmission_interface/SimpleTransmission</type>
    <joint name="R_joint1">
      <hardwareInterface>hardware_interface/PositionJointInterface</hardwareInterface>
    </joint>
    <actuator name="motor8">
      <hardwareInterface>PositionJointInterface</hardwareInterface>
      <mechanicalReduction>1</mechanicalReduction>
    </actuator>
  </transmission>
  <transmission name="tran9">
    <type>transmission_interface/SimpleTransmission</type>
    <joint name="R_joint2">
      <hardwareInterface>hardware_interface/PositionJointInterface</hardwareInterface>
    </joint>
    <actuator name="motor9">
      <hardwareInterface>PositionJointInterface</hardwareInterface>
      <mechanicalReduction>1</mechanicalReduction>
    </actuator>
  </transmission>
  <transmission name="tran10">
    <type>transmission_interface/SimpleTransmission</type>
    <joint name="R_joint3">
      <hardwareInterface>hardware_interface/PositionJointInterface</hardwareInterface>
    </joint>
    <actuator name="motor10">
      <hardwareInterface>PositionJointInterface</hardwareInterface>
      <mechanicalReduction>1</mechanicalReduction>
    </actuator>
  </transmission>
  <transmission name="tran11">
    <type>transmission_interface/SimpleTransmission</type>
    <joint name="R_joint4">
      <hardwareInterface>hardware_interface/PositionJointInterface</hardwareInterface>
    </joint>
    <actuator name="motor11">
      <hardwareInterface>PositionJointInterface</hardwareInterface>
      <mechanicalReduction>1</mechanicalReduction>
    </actuator>
  </transmission>
  <transmission name="tran12">
    <type>transmission_interface/SimpleTransmission</type>
    <joint name="R_joint5">
      <hardwareInterface>hardware_interface/PositionJointInterface</hardwareInterface>
    </joint>
    <actuator name="motor12">
      <hardwareInterface>PositionJointInterface</hardwareInterface>
      <mechanicalReduction>1</mechanicalReduction>
    </actuator>
  </transmission>
  <transmission name="tran13">
    <type>transmission_interface/SimpleTransmission</type>
    <joint name="R_joint6">
      <hardwareInterface>hardware_interface/PositionJointInterface</hardwareInterface>
    </joint>
    <actuator name="motor13">
      <hardwareInterface>PositionJointInterface</hardwareInterface>
      <mechanicalReduction>1</mechanicalReduction>
    </actuator>
  </transmission>
  <transmission name="tran14">
    <type>transmission_interface/SimpleTransmission</type>
    <joint name="R_joint7">
      <hardwareInterface>hardware_interface/PositionJointInterface</hardwareInterface>
    </joint>
    <actuator name="motor14">
      <hardwareInterface>PositionJointInterface</hardwareInterface>
      <mechanicalReduction>1</mechanicalReduction>
    </actuator>
  </transmission>
  <transmission name="tran17">
    <type>transmission_interface/SimpleTransmission</type>
    <joint name="R_left_joint">
      <hardwareInterface>hardware_interface/PositionJointInterface</hardwareInterface>
    </joint>
    <actuator name="motor17">
      <hardwareInterface>PositionJointInterface</hardwareInterface>
      <mechanicalReduction>1</mechanicalReduction>
    </actuator>
  </transmission>
  <transmission name="tran18">
    <type>transmission_interface/SimpleTransmission</type>
    <joint name="R_right_joint">
      <hardwareInterface>hardware_interface/PositionJointInterface</hardwareInterface>
    </joint>
    <actuator name="motor18">
      <hardwareInterface>PositionJointInterface</hardwareInterface>
      <mechanicalReduction>1</mechanicalReduction>
    </actuator>
  </transmission>
  <transmission name="tran19">
    <type>transmission_interface/SimpleTransmission</type>
    <joint name="H_joint1">
      <hardwareInterface>hardware_interface/PositionJointInterface</hardwareInterface>
    </joint>
    <actuator name="motor19">
      <hardwareInterface>PositionJointInterface</hardwareInterface>
      <mechanicalReduction>1</mechanicalReduction>
    </actuator>
  </transmission>
  <transmission name="tran20">
    <type>transmission_interface/SimpleTransmission</type>
    <joint name="H_joint2">
      <hardwareInterface>hardware_interface/PositionJointInterface</hardwareInterface>
    </joint>
    <actuator name="motor20">
      <hardwareInterface>PositionJointInterface</hardwareInterface>
      <mechanicalReduction>1</mechanicalReduction>
    </actuator>
  </transmission>

<gazebo reference="base_link">
  <visual name="gazeboo_color_base_link">
    <material>
      <script>
        <uri>file://media/materials/scripts/gazebo.material</uri>
        <name>Gazebo/Grey</name>
      </script>
    </material>
  </visual>
</gazebo>

<gazebo reference="L_Link0">
  <visual name="gazebo_color_Link7">
    <material>
      <ambient>0.792156862745098 0.819607843137255 0.933333333333333 1</ambient>
      <diffuse>0.792156862745098 0.819607843137255 0.933333333333333 1</diffuse>
      <specular>0.1 0.1 0.1 1</specular>
      <emissive>0 0 0 0</emissive>
    </material>
  </visual>
</gazebo>

<gazebo reference="L_Link1">
  <visual name="gazebo_color_Link1">
    <material>
      <script>
        <uri>file://media/materials/scripts/gazebo.material</uri>
        <name>Gazebo/FlatBlack</name>
      </script>
    </material>
  </visual>
</gazebo>

<gazebo reference="L_Link2">
  <visual name="gazebo_color_Link2">
    <material>
      <script>
        <uri>file://media/materials/scripts/gazebo.material</uri>
        <name>Gazebo/FlatBlack</name>
      </script>
    </material>
  </visual>
</gazebo>

<gazebo reference="L_Link3">
  <visual name="gazebo_color_Link3">
    <material>
      <script>
        <uri>file://media/materials/scripts/gazebo.material</uri>
        <name>Gazebo/FlatBlack</name>
      </script>
    </material>
   </visual>
</gazebo>

<gazebo reference="L_Link4">
  <visual name="gazebo_color_Link4">
    <material>
      <script>
        <uri>file://media/materials/scripts/gazebo.material</uri>
        <name>Gazebo/FlatBlack</name>
      </script>
    </material>
  </visual>
</gazebo>

<gazebo reference="L_Link5">
  <visual name="gazebo_color_Link5">
    <material>
      <script>
        <uri>file://media/materials/scripts/gazebo.material</uri>
        <name>Gazebo/FlatBlack</name>
      </script>
    </material>
  </visual>
</gazebo>

<gazebo reference="L_Link6">
  <visual name="gazebo_color_Link6">
    <material>
      <script>
        <uri>file://media/materials/scripts/gazebo.material</uri>
        <name>Gazebo/FlatBlack</name>
      </script>
    </material>
  </visual>
</gazebo>

<gazebo reference="L_Link7">
  <visual name="gazebo_color_Link7">
    <material>
      <ambient>0.792156862745098 0.819607843137255 0.933333333333333 1</ambient>
      <diffuse>0.792156862745098 0.819607843137255 0.933333333333333 1</diffuse>
      <specular>0.1 0.1 0.1 1</specular>
      <emissive>0 0 0 0</emissive>
    </material>
  </visual>
  <implicitSpringDamper>1</implicitSpringDamper>
  <kp>100000000.0</kp>
  <kd>1.0</kd>
  <mu1>200</mu1>
  <mu2>200</mu2>
  <maxVel>0.1</maxVel>
  <minDepth>0.010</minDepth>
</gazebo>

<gazebo reference="L_left_finger">
  <visual name="gazebo_color_left_gripper">
    <material>
      <ambient>0.792156862745098 0.819607843137255 0.933333333333333 1</ambient>
      <diffuse>0.792156862745098 0.819607843137255 0.933333333333333 1</diffuse>
      <specular>0.1 0.1 0.1 1</specular>
      <emissive>0 0 0 0</emissive>
    </material>
  </visual>
  <implicitSpringDamper>1</implicitSpringDamper>
  <kp>100000000.0</kp>
  <kd>1.0</kd>
  <mu1>200</mu1>
  <mu2>200</mu2>
  <maxVel>0.1</maxVel>
  <minDepth>0.010</minDepth>
</gazebo>

<gazebo reference="L_right_finger">
  <visual name="gazebo_color_right_gripper">
    <material>
      <ambient>0.792156862745098 0.819607843137255 0.933333333333333 1</ambient>
      <diffuse>0.792156862745098 0.819607843137255 0.933333333333333 1</diffuse>
      <specular>0.1 0.1 0.1 1</specular>
      <emissive>0 0 0 0</emissive>
    </material>
  </visual>
  <implicitSpringDamper>1</implicitSpringDamper>
  <kp>100000000.0</kp>
  <kd>1.0</kd>
  <mu1>200</mu1>
  <mu2>200</mu2>
  <maxVel>0.1</maxVel>
  <minDepth>0.010</minDepth>
</gazebo>

<gazebo reference="R_Link0">
   <visual name="gazebo_color_Link7">
    <material>
      <ambient>0.792156862745098 0.819607843137255 0.933333333333333 1</ambient>
      <diffuse>0.792156862745098 0.819607843137255 0.933333333333333 1</diffuse>
      <specular>0.1 0.1 0.1 1</specular>
      <emissive>0 0 0 0</emissive>
    </material>
  </visual>
</gazebo>


<gazebo reference="R_Link1">
  <visual name="gazebo_color_R_Link1">
    <material>
      <script>
        <uri>file://media/materials/scripts/gazebo.material</uri>
        <name>Gazebo/FlatBlack</name>
      </script>
    </material>
  </visual>
</gazebo>

<gazebo reference="R_Link2">
  <visual name="gazebo_color_R_Link2">
    <material>
      <script>
        <uri>file://media/materials/scripts/gazebo.material</uri>
        <name>Gazebo/FlatBlack</name>
      </script>
    </material>
  </visual>
</gazebo>

<gazebo reference="R_Link3">
  <visual name="gazebo_color_R_Link3">
    <material>
      <script>
        <uri>file://media/materials/scripts/gazebo.material</uri>
        <name>Gazebo/FlatBlack</name>
      </script>
    </material>
   </visual>
</gazebo>

<gazebo reference="R_Link4">
  <visual name="gazebo_color_R_Link4">
    <material>
      <script>
        <uri>file://media/materials/scripts/gazebo.material</uri>
        <name>Gazebo/FlatBlack</name>
      </script>
    </material>
  </visual>
</gazebo>

<gazebo reference="R_Link5">
  <visual name="gazebo_color_R_Link5">
    <material>
      <script>
        <uri>file://media/materials/scripts/gazebo.material</uri>
        <name>Gazebo/FlatBlack</name>
      </script>
    </material>
  </visual>
</gazebo>

<gazebo reference="R_Link6">
  <visual name="gazebo_color_R_Link6">
    <material>
      <script>
        <uri>file://media/materials/scripts/gazebo.material</uri>
        <name>Gazebo/FlatBlack</name>
      </script>
    </material>
  </visual>
</gazebo>

<gazebo reference="R_Link7">
  <visual name="gazebo_color_R_Link7">
    <material>
      <ambient>0.792156862745098 0.819607843137255 0.933333333333333 1</ambient>
      <diffuse>0.792156862745098 0.819607843137255 0.933333333333333 1</diffuse>
      <specular>0.1 0.1 0.1 1</specular>
      <emissive>0 0 0 0</emissive>
    </material>
  </visual>
  <implicitSpringDamper>1</implicitSpringDamper>
  <kp>100000000.0</kp>
  <kd>1.0</kd>
  <mu1>200</mu1>
  <mu2>200</mu2>
  <maxVel>1.0</maxVel>
  <minDepth>0.010</minDepth>
</gazebo>

<gazebo reference="R_left_finger">
  <visual name="gazebo_color_R_left_gripper">
    <material>
      <ambient>0.792156862745098 0.819607843137255 0.933333333333333 1</ambient>
      <diffuse>0.792156862745098 0.819607843137255 0.933333333333333 1</diffuse>
      <specular>0.1 0.1 0.1 1</specular>
      <emissive>0 0 0 0</emissive>
    </material>
  </visual>
  <implicitSpringDamper>1</implicitSpringDamper>
  <kp>100000000.0</kp>
  <kd>1.0</kd>
  <mu1>200</mu1>
  <mu2>200</mu2>
  <maxVel>0.1</maxVel>
  <minDepth>0.010</minDepth>
</gazebo>

<gazebo reference="R_right_finger">
  <visual name="gazebo_color_R_right_gripper">
    <material>
      <ambient>0.792156862745098 0.819607843137255 0.933333333333333 1</ambient>
      <diffuse>0.792156862745098 0.819607843137255 0.933333333333333 1</diffuse>
      <specular>0.1 0.1 0.1 1</specular>
      <emissive>0 0 0 0</emissive>
    </material>
  </visual>
  <implicitSpringDamper>1</implicitSpringDamper>
  <kp>100000000.0</kp>
  <kd>1.0</kd>
  <mu1>200</mu1>
  <mu2>200</mu2>
  <maxVel>0.1</maxVel>
  <minDepth>0.010</minDepth>
</gazebo>

<gazebo reference="H_Link1">
   <visual name="gazebo_color_Link7">
    <material>
      <ambient>0.792156862745098 0.819607843137255 0.933333333333333 1</ambient>
      <diffuse>0.792156862745098 0.819607843137255 0.933333333333333 1</diffuse>
      <specular>0.1 0.1 0.1 1</specular>
      <emissive>0 0 0 0</emissive>
    </material>
  </visual>
</gazebo>

<gazebo reference="H_Link2">
   <visual name="gazebo_color_Link7">
    <material>
      <ambient>0.792156862745098 0.819607843137255 0.933333333333333 1</ambient>
      <diffuse>0.792156862745098 0.819607843137255 0.933333333333333 1</diffuse>
      <specular>0.1 0.1 0.1 1</specular>
      <emissive>0 0 0 0</emissive>
    </material>
  </visual>
</gazebo>

<gazebo>
  <plugin name="gazebo_grasp_fix_1eft" filename="libgazebo_grasp_fix.so">
    <arm>
        <arm_name>left_arm</arm_name>
        <palm_link>L_Link7</palm_link>
        <gripper_link>L_left_finger</gripper_link>
        <gripper_link>L_right_finger</gripper_link>
    </arm>
    <arm>
        <arm_name>right_arm</arm_name>
        <palm_link>R_Link7</palm_link>
        <gripper_link>R_left_finger</gripper_link>
        <gripper_link>R_right_finger</gripper_link>
    </arm>
    <forces_angle_tolerance>100</forces_angle_tolerance>
    <update_rate>4</update_rate>
    <grip_count_threshold>4</grip_count_threshold>
    <max_grip_count>8</max_grip_count>
    <release_tolerance>0.003</release_tolerance>
    <disable_collisions_on_attach>false</disable_collisions_on_attach>
    <contact_topic>__default_topic__</contact_topic>
  </plugin>
</gazebo>

 <gazebo>
    <plugin filename="libgazebo_ros_planar_move.so" name="mpo_500_controller">
      <commandTopic>cmd_vel</commandTopic>
      <leftFrontJoint>wheel_joint1</leftFrontJoint>
      <rightFrontJoint>wheel_joint2</rightFrontJoint>
      <leftRearJoint>wheel_joint3</leftRearJoint>
      <odometryTopic>odom</odometryTopic>
      <odometryFrame>odom</odometryFrame>
      <odometryRate>20.0</odometryRate>
      <robotBaseFrame>base_dummy</robotBaseFrame>
    </plugin>
 </gazebo>
 
   <link name="camera_link">
          <visual>
             <origin xyz="0 -0.01 0" rpy="1.570795 0 1.570795"/>
             <geometry>
                <mesh filename="package://wust_robot_description/meshes/zr300.dae" />
             </geometry>
          </visual>
         <collision>
            <geometry>
                <box size="0.01 0.155 0.035"/>
           </geometry>
        </collision>
   </link>
   <joint name="camera_joint" type="fixed">
        <origin xyz="0 -0.045 -0.0438" rpy="1.570795 0 0"/>
        <parent link="H_Link2"/>
        <child link="camera_link"/>
   </joint>  
   
   <link name="camera_depth_link">
   </link>
   
   <joint name="camera_depth_joint" type="fixed">
        <origin xyz="-0.003 -0.006 0.028" rpy="0 0 0"/>
        <parent link="camera_link"/>
        <child link="camera_depth_link"/>
   </joint>
   <link name="camera_depth_optical_link">
   </link>
   
   <joint name="camera_depth_optical_joint" type="fixed">
        <origin xyz="0.0 0 0" rpy="-1.570795 0 -1.570795"/>
        <parent link="camera_depth_link"/>
        <child link="camera_depth_optical_link"/>
   </joint>
   

<gazebo reference="camera_depth_link">
            <sensor type="depth" name="camera">
                <always_on>true</always_on>
                <update_rate>20.0</update_rate>
                <camera>
                    <horizontal_fov>1.047</horizontal_fov>
                    <image>
                        <format>R8G8B8</format>
                        <width>640</width>
                        <height>480</height>
                    </image>
                    <clip>
                        <near>0.05</near>
                        <far>4.0</far>
                    </clip>
                </camera>
		<plugin name="kinect_camera_controller" filename="libgazebo_ros_openni_kinect.so">
                    <cameraName>camera</cameraName>
                    <alwaysOn>true</alwaysOn>
                    <updateRate>10</updateRate>
                    <imageTopicName>rgb/image_raw</imageTopicName>
                    <depthImageTopicName>depth/image_raw</depthImageTopicName>
                    <pointCloudTopicName>depth/points</pointCloudTopicName>
                    <cameraInfoTopicName>rgb/camera_info</cameraInfoTopicName>
                    <depthImageCameraInfoTopicName>depth/camera_info</depthImageCameraInfoTopicName>
                    <frameName>camera_depth_optical_link</frameName>
                    <baseline>0.1</baseline>
                    <distortion_k1>0.0</distortion_k1>
                    <distortion_k2>0.0</distortion_k2>
                    <distortion_k3>0.0</distortion_k3>
                    <distortion_t1>0.0</distortion_t1>
                    <distortion_t2>0.0</distortion_t2>
                    <pointCloudCutoff>0.4</pointCloudCutoff>
                </plugin>
            </sensor>
        </gazebo>
 </robot>
 
 <!--<joint name="camera_joint" type="fixed">
        <origin xyz="0.3 0 0.7" rpy="0 1.57 0"/>
        <parent link="base_link"/>
        <child link="camera_link"/>
   </joint>
  

   <link name="camera_link">
       <collision>
           <origin xyz="0 0 0" rpy="0 0 0"/>
           <geometry>
           <mesh filename="package://wust_robot_description/meshes/camera.STL" />
           </geometry>
       </collision> 

       <visual>
           <origin xyz="-0.8 0 0" rpy="-1.57 0 -1.57"/>
           <geometry>
           <mesh filename="package://wust_robot_description/meshes/camera.STL" />
           </geometry>
           <material name="red"/>
       </visual>

       <inertial>
        <mass value="0.00001" />
        <origin xyz="0 0 0" />
        <inertia ixx="1.0" ixy="0.0" ixz="0.0"
          iyy="1.0" iyz="0.0"
          izz="1.0" />
       </inertial>
   </link>


  <gazebo reference="camera_link">
    <material>Gazebo/Red</material>

    <sensor type="camera" name="camera">
      <update_rate>30.0</update_rate>
      <camera name="head">
        <horizontal_fov>1.3</horizontal_fov>
        < <horizontal_fov>0.95</horizontal_fov> >
        <image>
          <width>800</width>
          <height>800</height>
          <format>R8G8B8</format>
        </image>
        <clip>
          <near>0.02</near>
          <far>300</far>
        </clip>
        <noise>
          <type>gaussian</type>

          <mean>0.0</mean>
          <stddev>0.007</stddev>
        </noise>
      </camera>
      <plugin name="camera_controller" filename="libgazebo_ros_camera.so">
        <alwaysOn>true</alwaysOn>
        <updateRate>0.0</updateRate>
        <cameraName>wust_robot/camera</cameraName>
        <imageTopicName>image_raw</imageTopicName>
        <cameraInfoTopicName>camera_info</cameraInfoTopicName>
        <frameName>camera_link</frameName>
        <hackBaseline>0.07</hackBaseline>
        <distortionK1>0.0</distortionK1>
        <distortionK2>0.0</distortionK2>
        <distortionK3>0.0</distortionK3>
        <distortionT1>0.0</distortionT1>
        <distortionT2>0.0</distortionT2>
      </plugin>
    </sensor>
 </gazebo>
 
 </robot>-->
